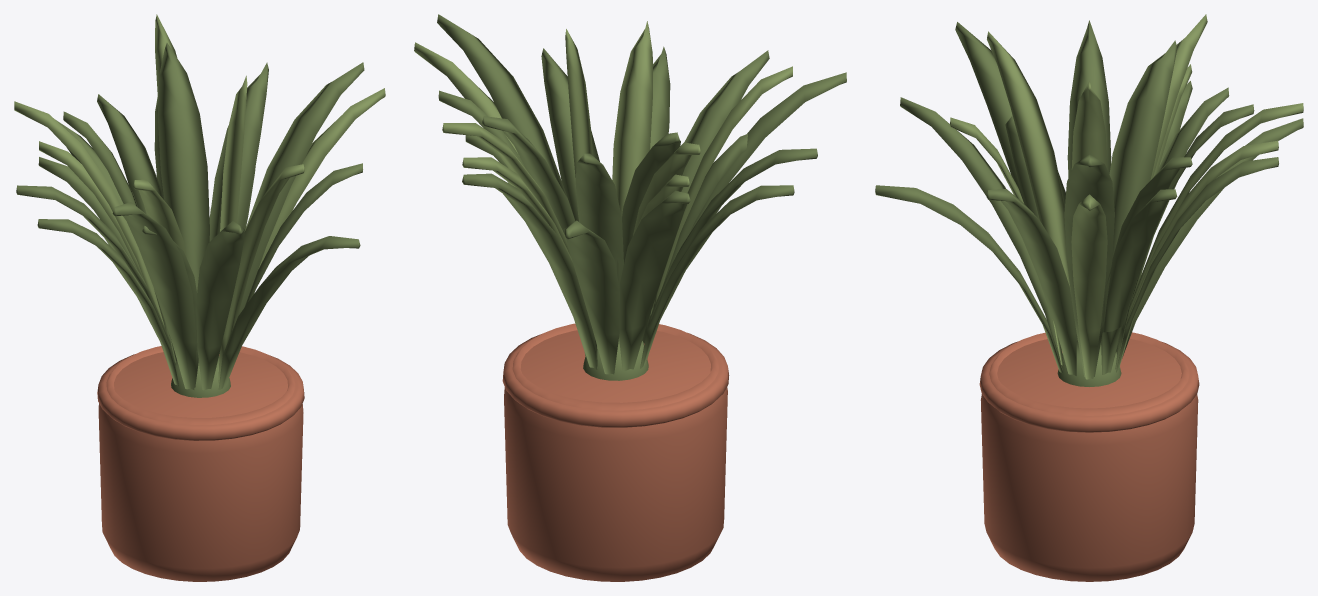
File: plant_small.fbx
3 views of the same model, side by side, from view 1: azimuth 30°, elevation 25°; view 2: azimuth 150°, elevation 25°; view 3: azimuth 270°, elevation 25° (orthographic). The views are drawn at different scales.
Parts seen in each view (by area): view 1: plant_small; view 2: plant_small; view 3: plant_small.
Part boxes in pixels (x1,y1,x2,y2): plant_small: [14, 14, 385, 581]; plant_small: [414, 14, 846, 581]; plant_small: [875, 14, 1303, 581].
Bounding box in the file's own units: 0.372 × 0.448 × 0.3549.
